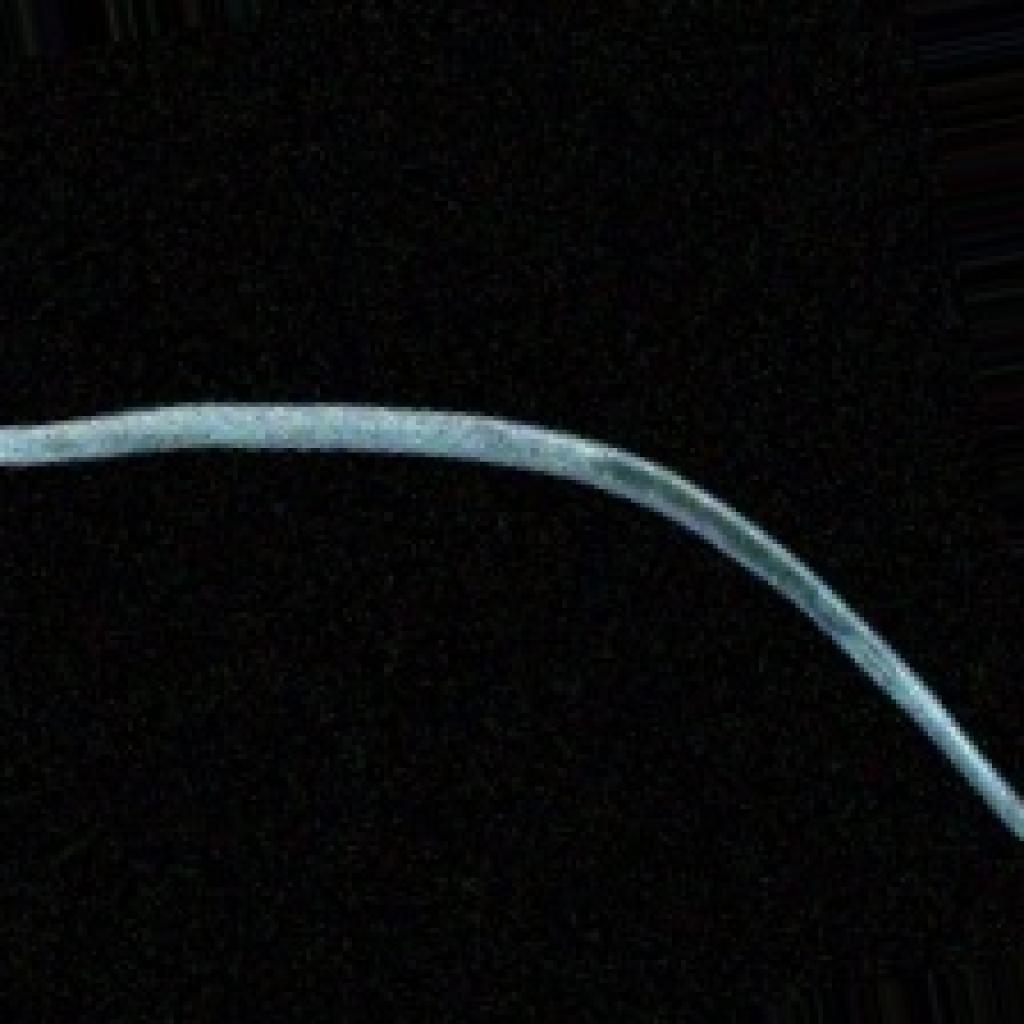Nematode: (0, 388, 1019, 1019)
